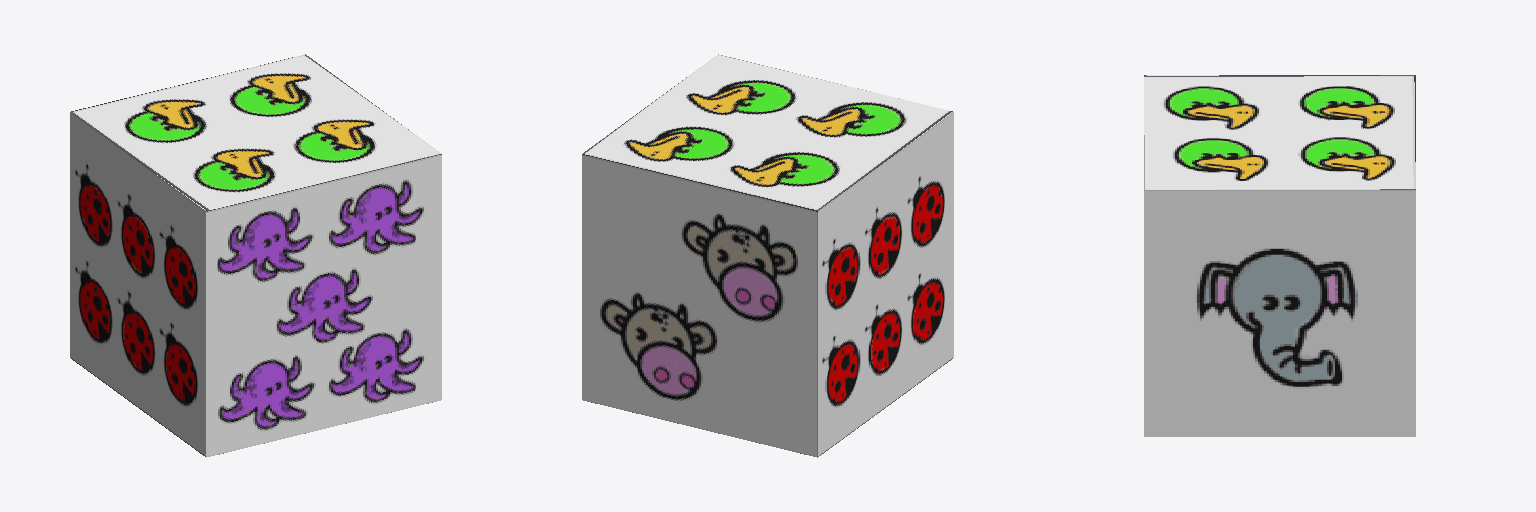
3 views of the same model, side by side, from view 1: azimuth 30°, elevation 25°; view 2: azimuth 150°, elevation 25°; view 3: azimuth 270°, elevation 25° (orthographic).
Parts seen in each view (by area): view 1: Cubo_Animales; view 2: Cubo_Animales; view 3: Cubo_Animales.
Boxes of the visible parts, x1,y1,x2,y2 form: Cubo_Animales: [70, 54, 441, 457]; Cubo_Animales: [582, 54, 953, 457]; Cubo_Animales: [1144, 75, 1415, 436].
Size of the model in its own units: 33.36 by 33.36 by 33.36.
Materials: 1 (1 with a texture image).